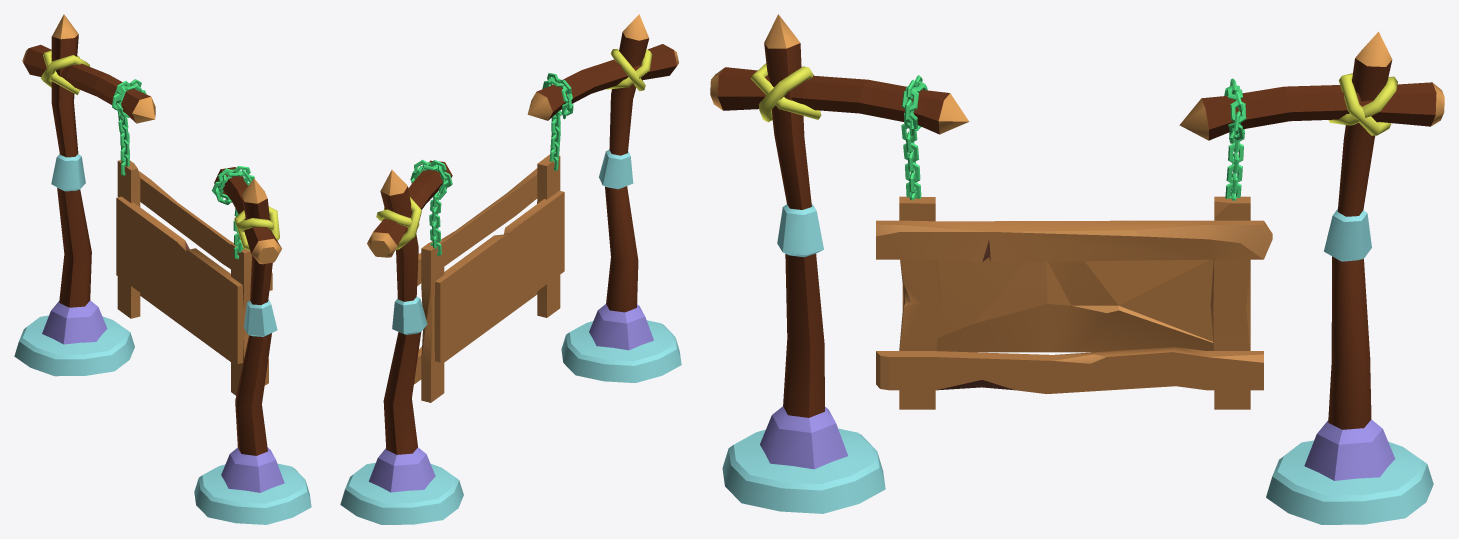
The model's file is PillarNew.fbx.
3 views of the same model, side by side, from view 1: azimuth 30°, elevation 25°; view 2: azimuth 150°, elevation 25°; view 3: azimuth 270°, elevation 25° (orthographic). The views are drawn at different scales.
Visible parts, largest first — view 1: WoodBoardMENU; view 2: WoodBoardMENU; view 3: WoodBoardMENU.
Part boxes in pixels (x1=…): WoodBoardMENU: x1=14, y1=14, x2=311, y2=524; WoodBoardMENU: x1=340, y1=14, x2=681, y2=524; WoodBoardMENU: x1=710, y1=14, x2=1444, y2=524.
Bounding box in the file's own units: 203 × 535 × 775.
